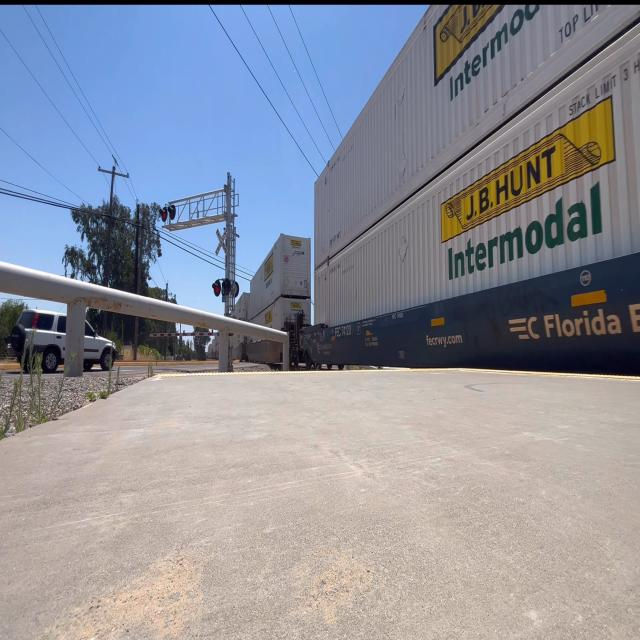container: (314, 21, 640, 323), (310, 0, 640, 272)
flatcar: (291, 254, 640, 377)
